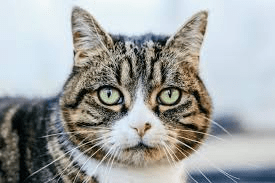cat: (1, 1, 235, 182)
